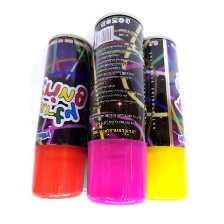aerosol_cans: (83, 7, 149, 207), (27, 29, 100, 203), (129, 33, 193, 204)
